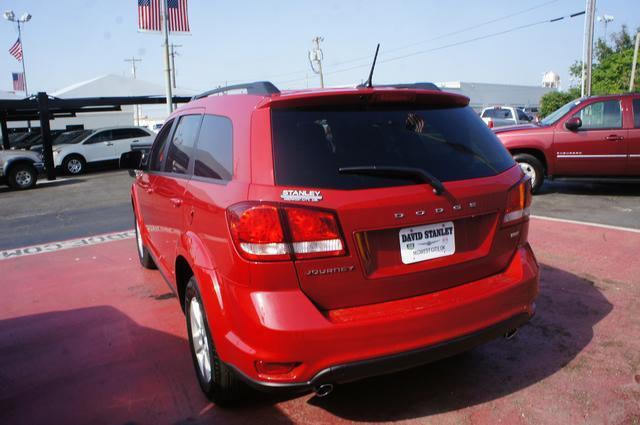dodge: (391, 197, 483, 225)
